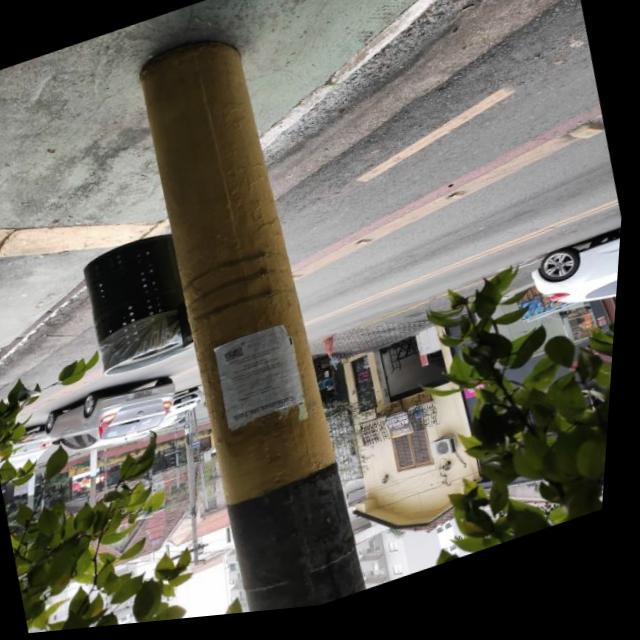qrcode: (229, 352, 249, 367)
